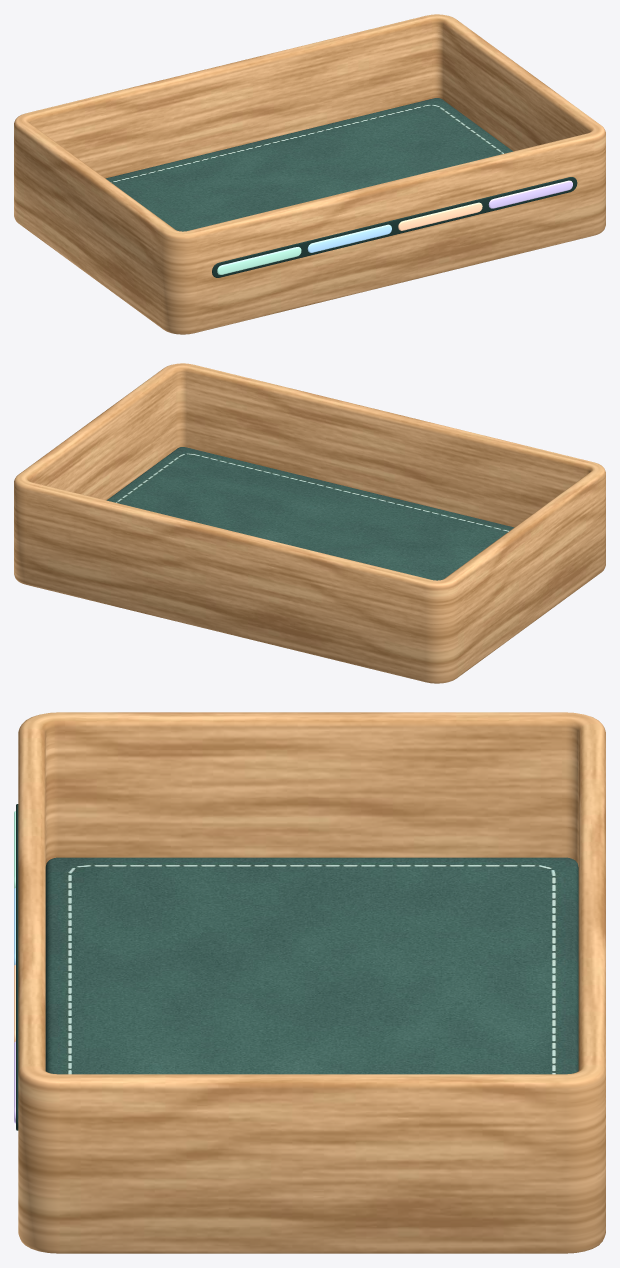
Rendered from tray.glb.
3 renders of one model, top to bottom at view 1: azimuth 30°, elevation 25°; view 2: azimuth 150°, elevation 25°; view 3: azimuth 270°, elevation 25°, orthographic. The views are drawn at different scales.
Visible parts, largest first — view 1: TrayShell, TrayFelt, InlayBand, Inlay2, Inlay3, Inlay0, Inlay1; view 2: TrayShell, TrayFelt; view 3: TrayShell, TrayFelt, InlayBand.
Part boxes in pixels (left/top/right/bottom): TrayShell: left=14, top=14, right=605, bottom=334; TrayFelt: left=105, top=98, right=513, bottom=231; InlayBand: left=212, top=177, right=577, bottom=277; Inlay2: left=398, top=202, right=482, bottom=230; Inlay3: left=488, top=180, right=572, bottom=208; Inlay0: left=217, top=247, right=301, bottom=274; Inlay1: left=307, top=224, right=391, bottom=252; TrayShell: left=14, top=363, right=605, bottom=683; TrayFelt: left=106, top=447, right=514, bottom=580; TrayShell: left=18, top=712, right=605, bottom=1253; TrayFelt: left=45, top=857, right=578, bottom=1074; InlayBand: left=16, top=804, right=18, bottom=1130.
Size of the model in its own units: 0.209 by 0.045 by 0.14.
7 materials, 2 textured.
